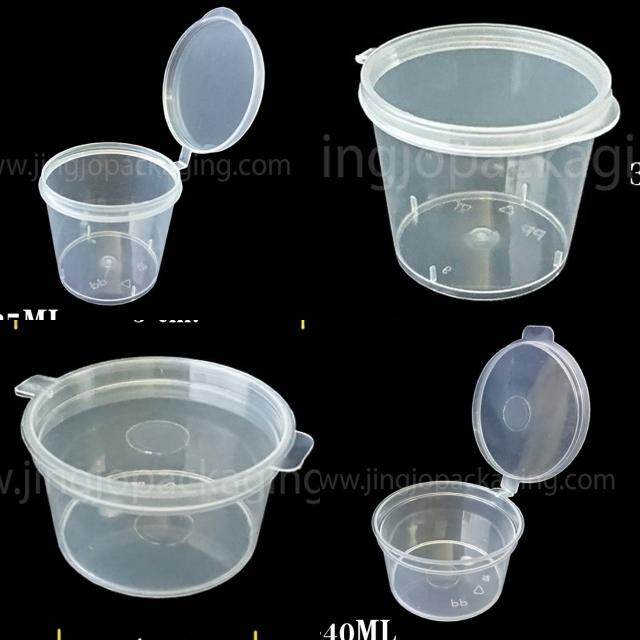Single-Use-Plastic: (358, 25, 620, 300), (15, 358, 312, 598), (39, 142, 182, 305), (372, 481, 524, 621), (472, 326, 590, 494), (162, 8, 265, 169)
